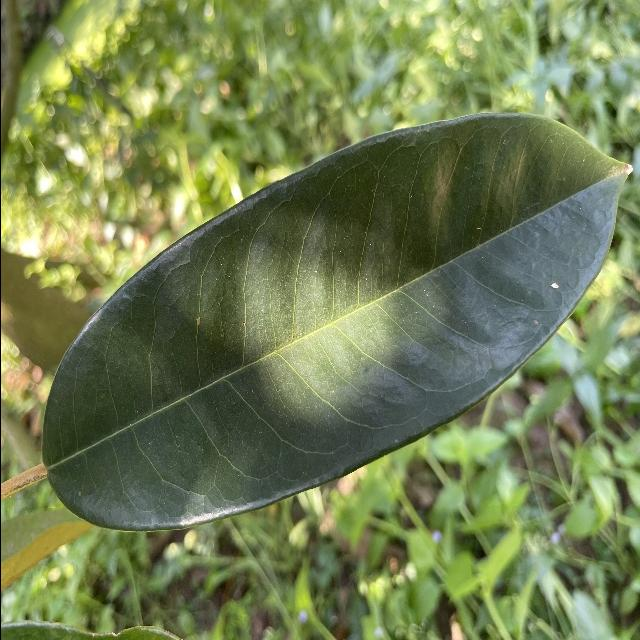No Disease: (29, 102, 640, 537)
